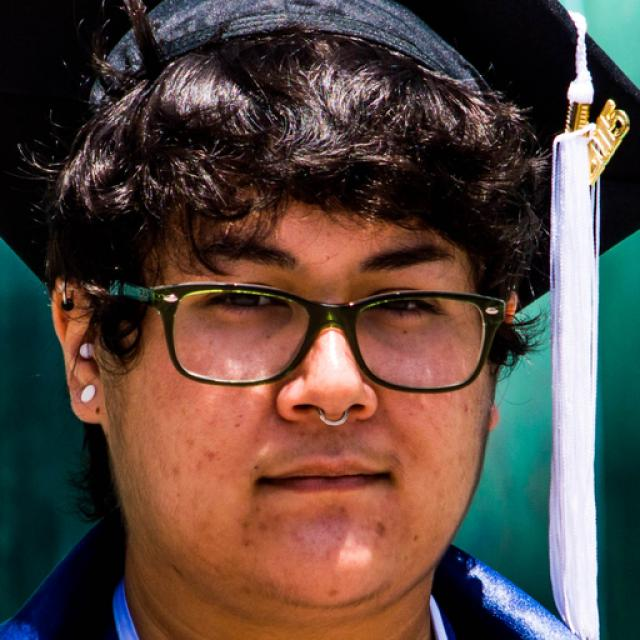Pigmentation: (166, 434, 223, 487), (235, 503, 278, 555), (367, 512, 390, 548)
